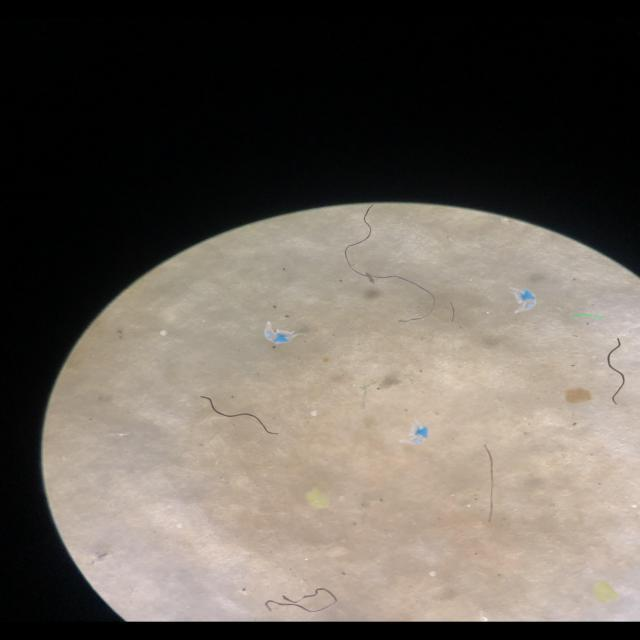fiber: (336, 209, 438, 319), (199, 393, 283, 446), (248, 585, 354, 620), (474, 438, 508, 531), (603, 328, 633, 414), (566, 308, 610, 322)
film: (501, 279, 548, 321), (389, 417, 443, 451), (252, 320, 303, 352)
fragment: (292, 482, 341, 514), (563, 379, 599, 409), (583, 578, 619, 608)
pallet: (152, 327, 178, 339), (304, 408, 328, 420), (170, 520, 190, 533), (423, 568, 444, 579), (626, 499, 639, 513)
